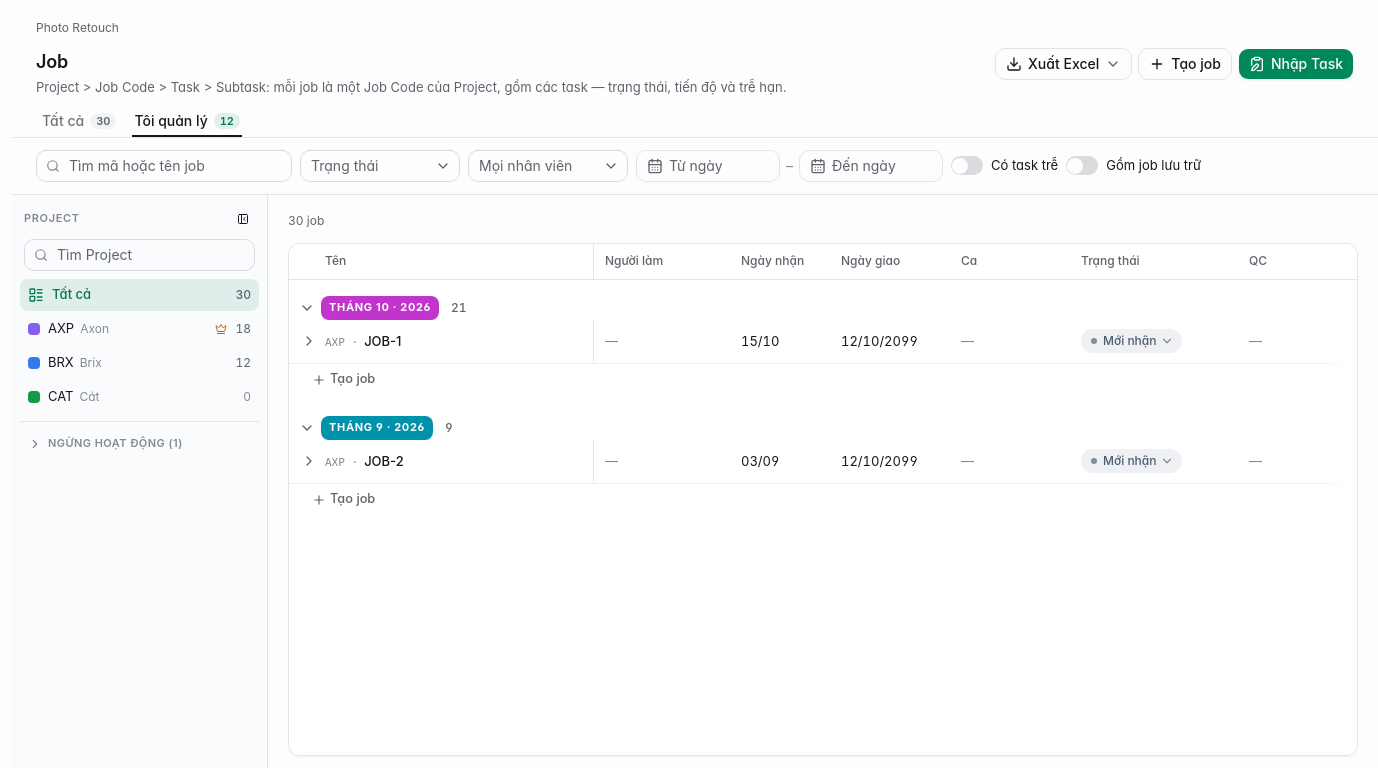
Test case: /production/jobs — Tất cả / Tôi quản lý = the Projects I own (PD-073, PD-078) › Tất cả is kept as ?scope=all, so it stays chosen while other filters change
Step 1. Click the tab "Tất cả 30" → (79, 121), box left=39, top=108, right=119, bottom=133
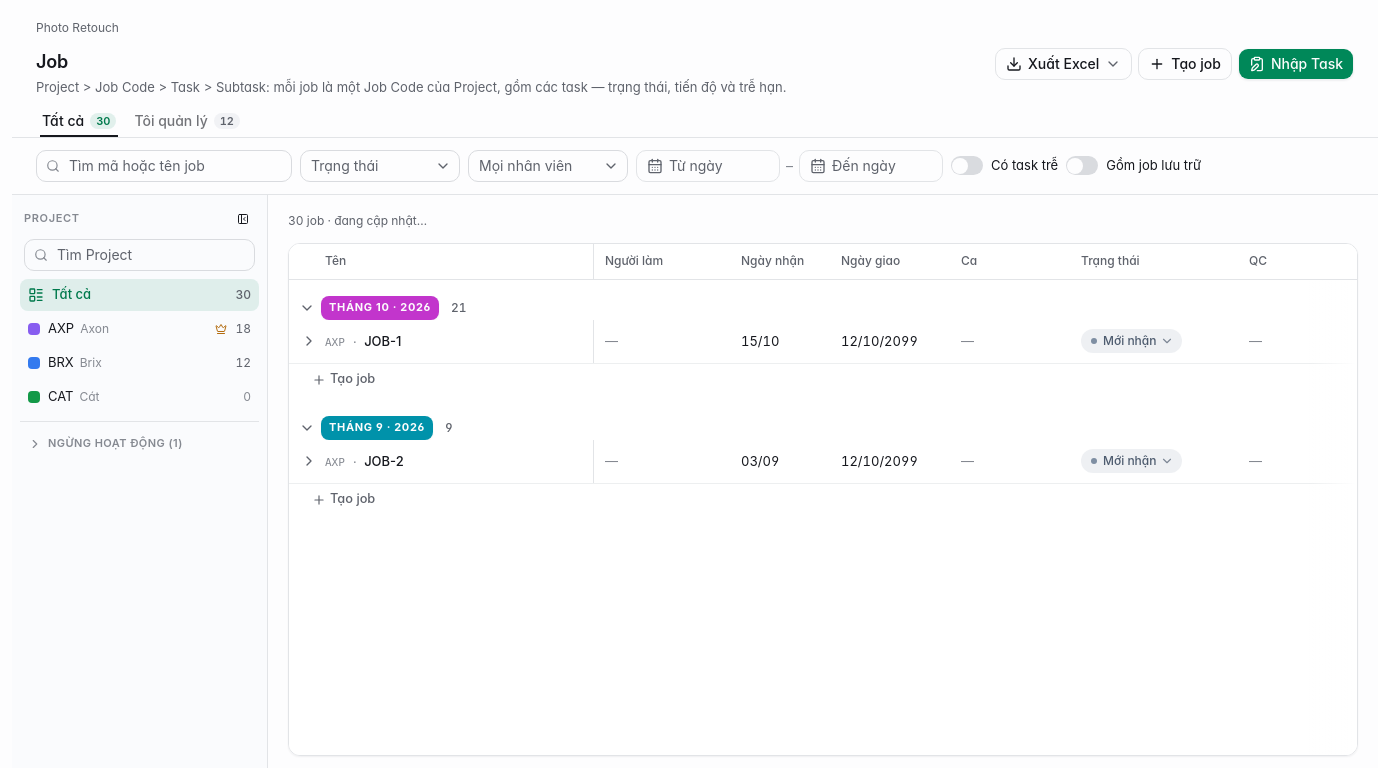
Step 2. Click the switch named "Có task trễ" next to "Có task trễ" → (967, 166), box left=951, top=156, right=983, bottom=175
(page scrolled)
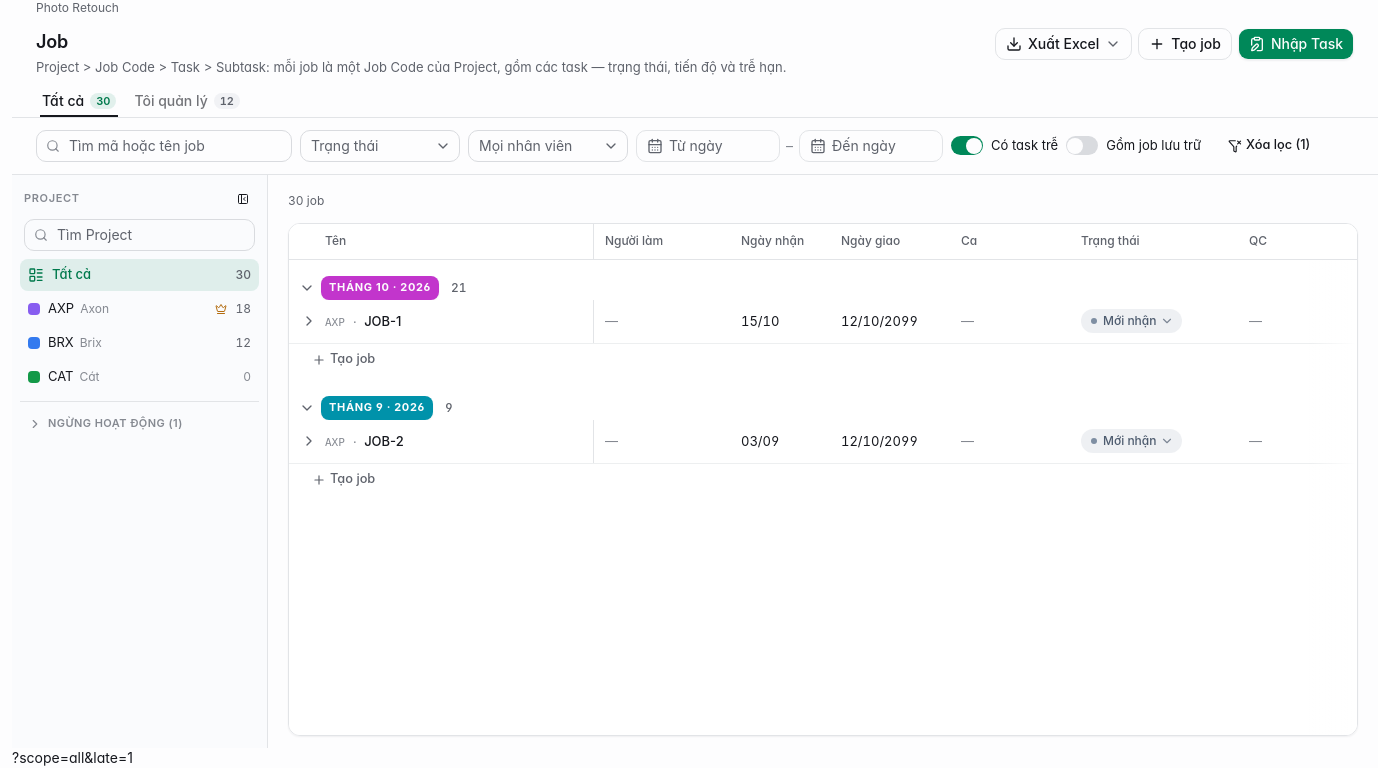
Result: the text with test id "location" reads "?scope=all&late=1" at left=12, top=749, right=133, bottom=766
